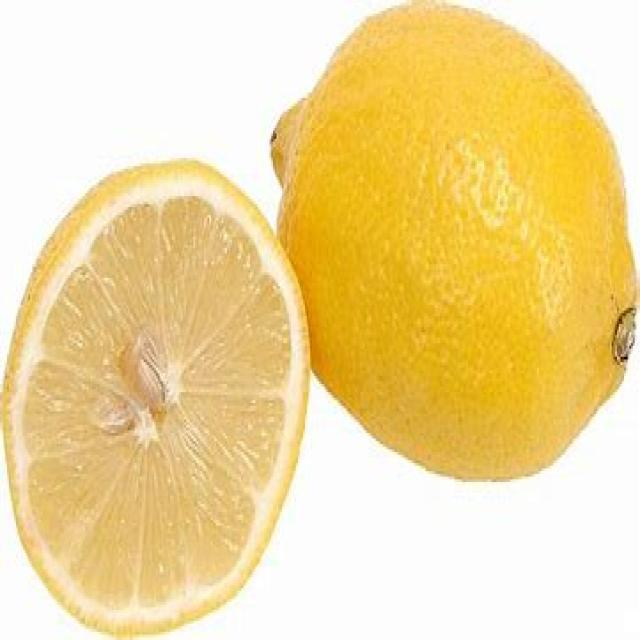lemon: (261, 3, 640, 491), (0, 152, 315, 640)
